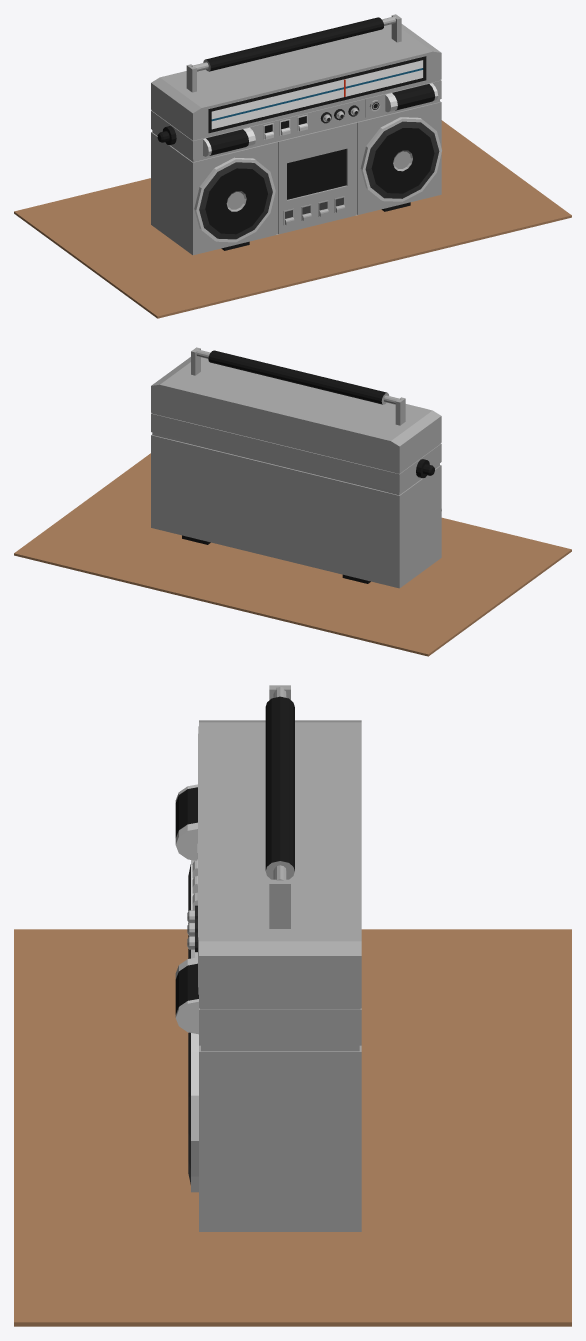
File: boombox.fbx
3 renders of one model, top to bottom at view 1: azimuth 30°, elevation 25°; view 2: azimuth 150°, elevation 25°; view 3: azimuth 270°, elevation 25°, orthographic. The views are drawn at different scales.
Visible parts, largest first — view 1: boombox, cardboard; view 2: boombox, cardboard; view 3: cardboard, boombox.
Boxes of the visible parts, x1,y1,x2,y2 form: boombox: (151,14,441,255); cardboard: (14,120,571,318); boombox: (151,347,441,588); cardboard: (14,453,571,656); cardboard: (14,929,571,1326); boombox: (175,685,361,1231).
Bounding box in the file's own units: 152 × 63.08 × 91.44.
Materials: 1 (1 with a texture image).
